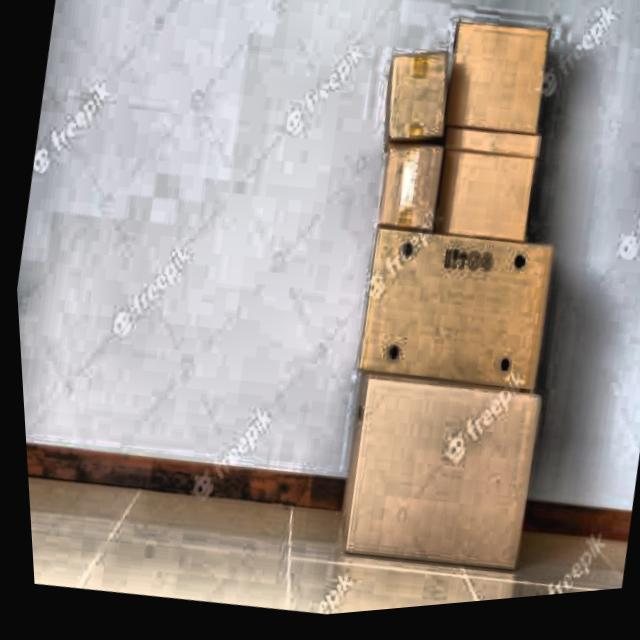Cardbox: (322, 23, 602, 473), (308, 359, 562, 620), (359, 49, 463, 246)
